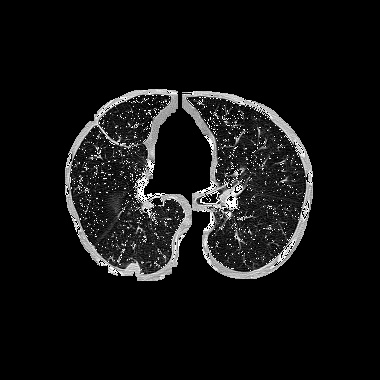PN: (126, 262, 140, 276)
